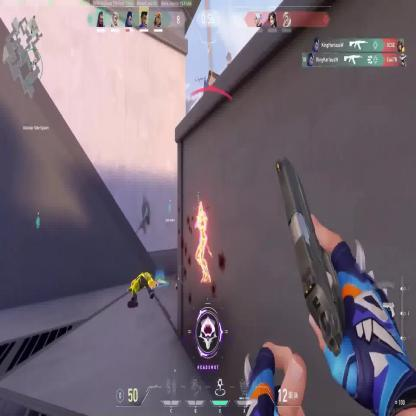enemy: (195, 203, 213, 284)
enemy_head: (197, 202, 204, 214)
